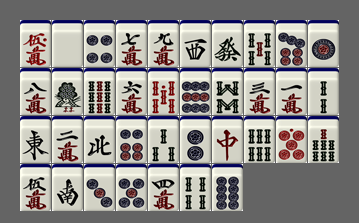0m: (20, 20, 51, 67)
0p: (276, 116, 307, 163)
0s: (148, 68, 179, 115)
1m: (276, 68, 307, 115)
1p: (308, 20, 339, 67)
1s: (52, 68, 83, 115)
1z: (20, 116, 51, 163)
2m: (52, 116, 83, 163)
2p: (180, 116, 211, 163)
2s: (308, 68, 339, 115)
2z: (52, 164, 83, 211)
3m: (244, 68, 275, 115)
3p: (84, 164, 115, 211)
3s: (148, 116, 179, 163)
3z: (180, 20, 211, 67)
4m: (148, 164, 179, 211)
4p: (84, 20, 115, 67)
4s: (180, 164, 211, 211)
4z: (84, 116, 115, 163)
5m: (20, 164, 51, 211)
5p: (116, 164, 147, 211)
5s: (244, 20, 275, 67)
5z: (52, 20, 83, 67)
6m: (116, 68, 147, 115)
6p: (116, 116, 147, 163)
6s: (244, 116, 275, 163)
6z: (212, 20, 243, 67)
7m: (116, 20, 147, 67)
7p: (276, 20, 307, 67)
7s: (308, 116, 339, 163)
7z: (212, 116, 243, 163)
8m: (20, 68, 51, 115)
8p: (212, 164, 243, 211)
8s: (212, 68, 243, 115)
9m: (148, 20, 179, 67)
9p: (180, 68, 211, 115)
9s: (84, 68, 115, 115)
